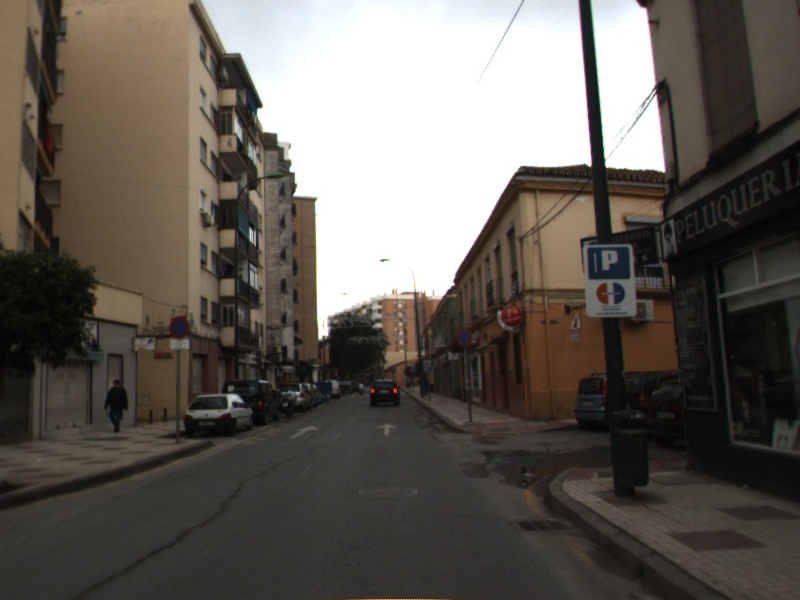STRAIGHT: (287, 423, 321, 440), (374, 421, 400, 437)
